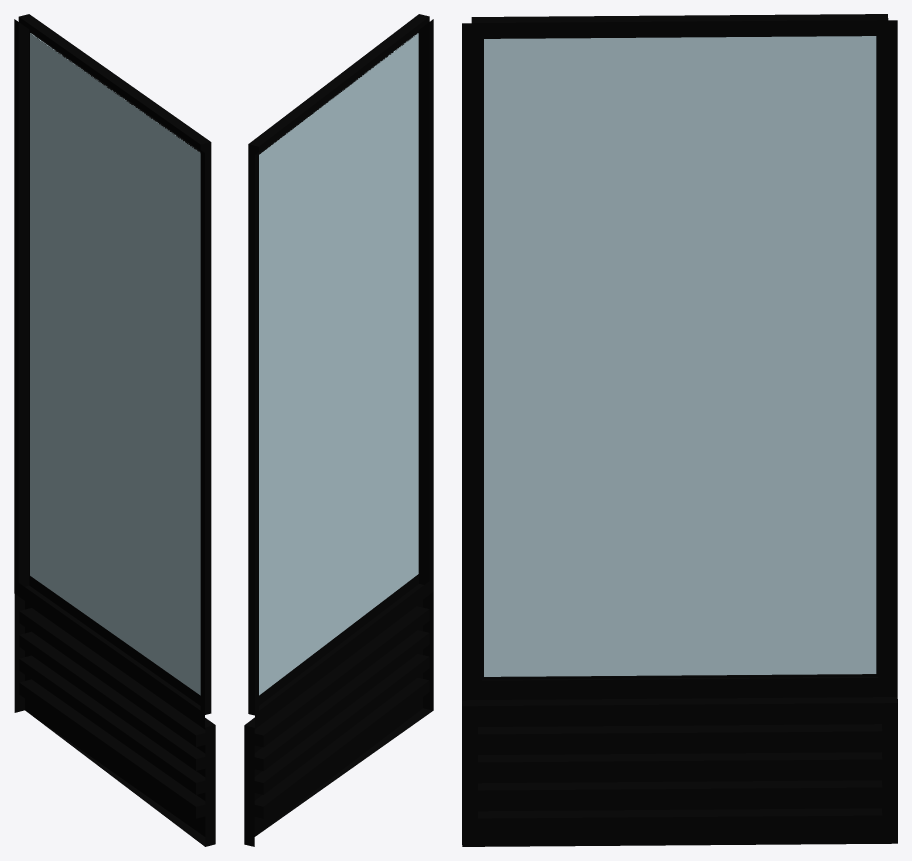
Rendered from Porta02Aberta.glb.
The picture shows the model from 3 angles, left to right: view 1: azimuth 30°, elevation 25°; view 2: azimuth 150°, elevation 25°; view 3: azimuth 270°, elevation 25°; orthographic projection. The views are drawn at different scales.
Parts seen in each view (by area): view 1: Porta2A; view 2: Porta2A; view 3: Porta2A.
Boxes of the visible parts, x1,y1,x2,y2 form: Porta2A: [14, 14, 215, 846]; Porta2A: [244, 14, 433, 846]; Porta2A: [462, 14, 897, 846].
Size of the model in its own units: 0.0552 by 2.03 by 0.9729.
